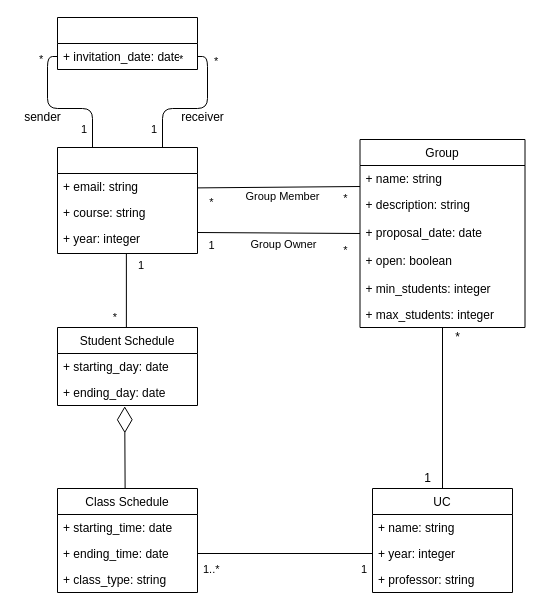
The diagram is 542 pixels wide and 613 high, and some of its shapes have lost their labels. The box of each missing label's shape, as (x1, y1, x2, y2) in pixels:
Invite: (56, 16, 198, 70)
User: (56, 146, 198, 254)
